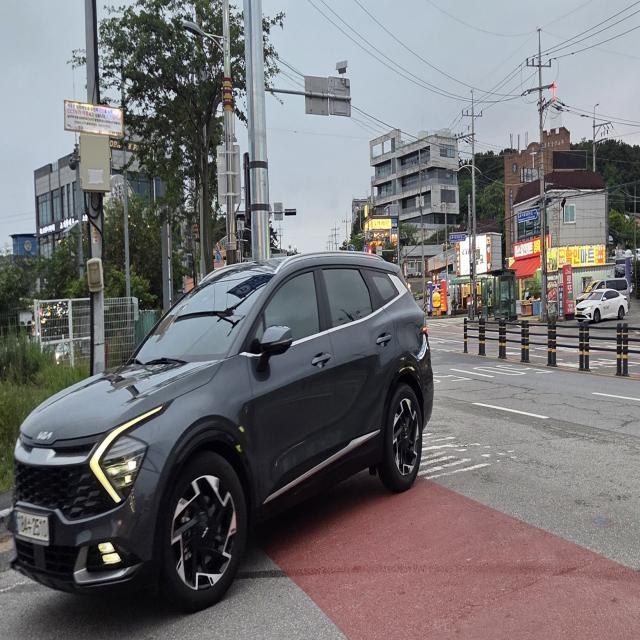car: (14, 214, 459, 616)
